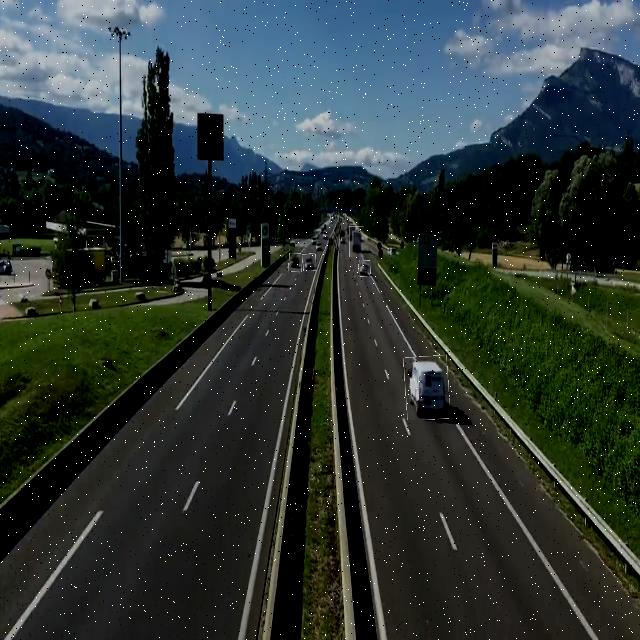Car: (404, 355, 449, 420), (289, 254, 302, 272), (303, 254, 316, 271), (359, 260, 371, 277)
Truck: (349, 226, 364, 257)
